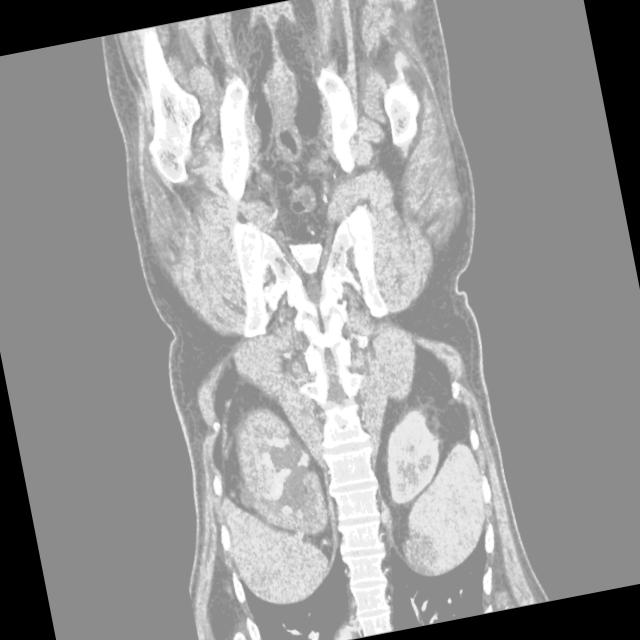TUMOR: (147, 253, 514, 527)
